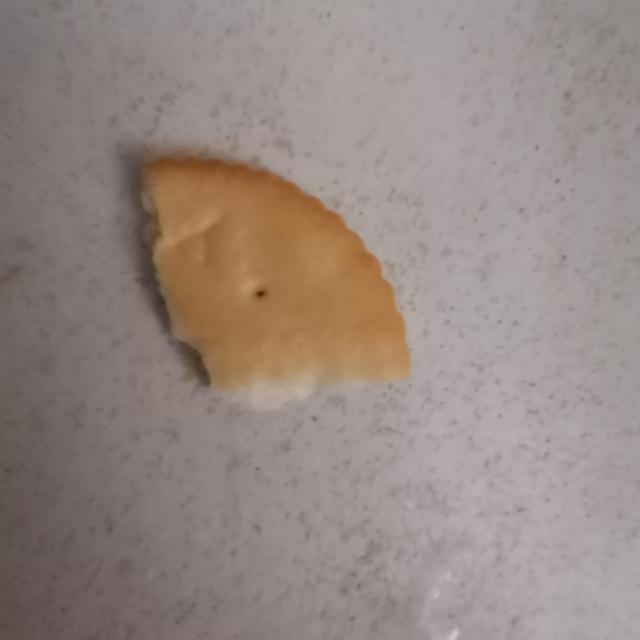Broken: (138, 153, 412, 410)
